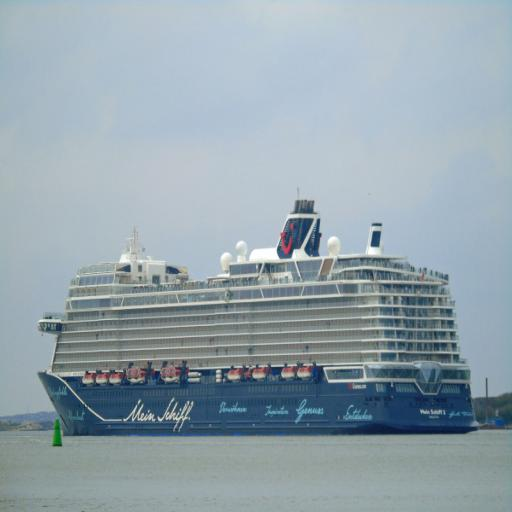cruises: (35, 187, 482, 444)
